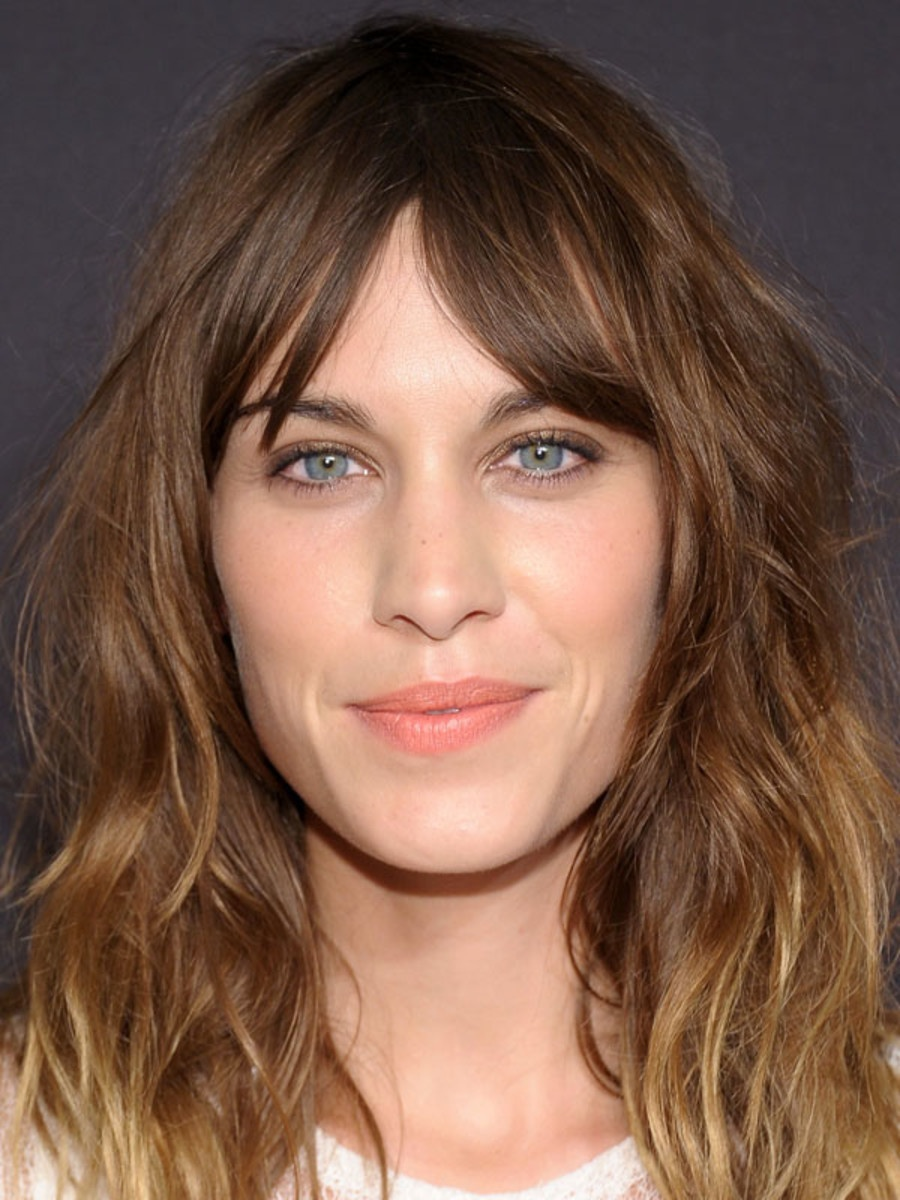face: (209, 215, 679, 876)
